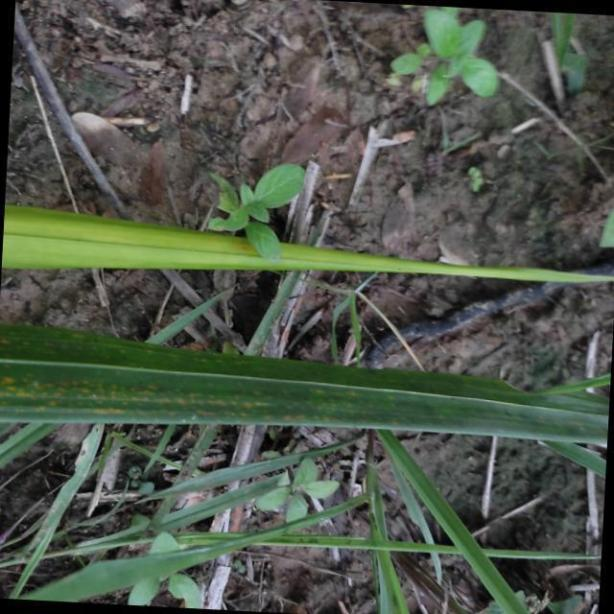nitrogen: (0, 314, 614, 445), (0, 200, 614, 289)
